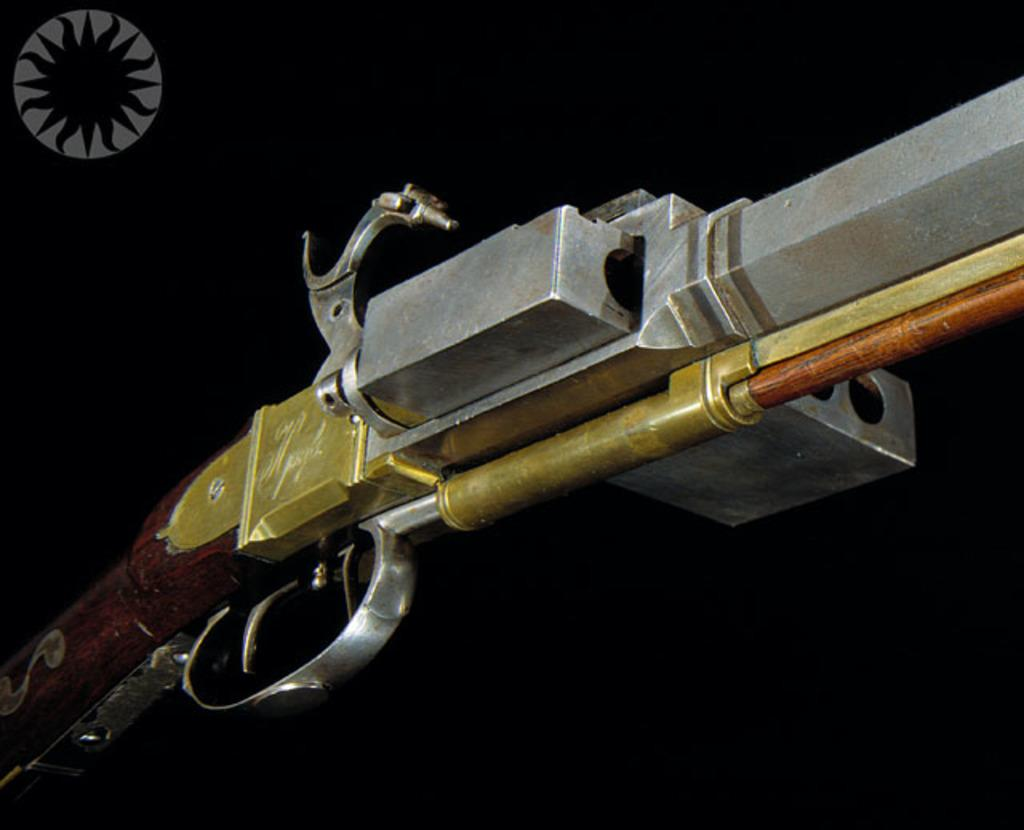Shotgun: (0, 70, 1022, 827)
